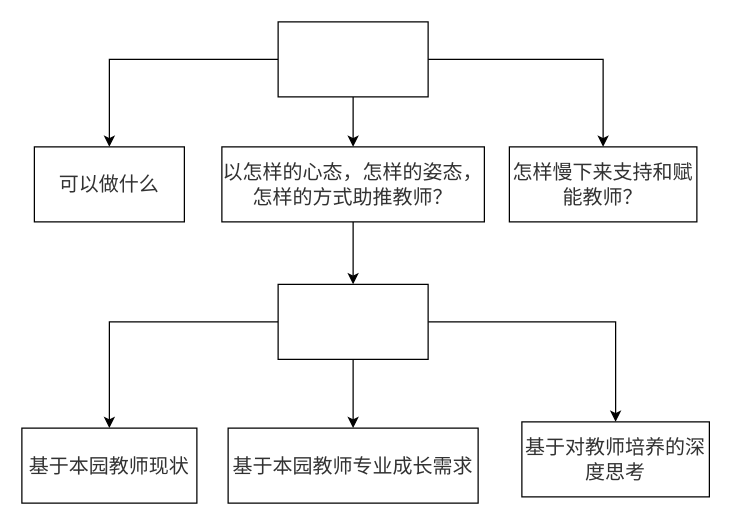
Image size: 731x525. Some labels were removed from this diagram. The shapes that lost their labels are listed below. From the top down, each one's centre as x and y in pixels, then its label:
At [352,59]: "思考问题".
At [352,321]: "思考的基础".
